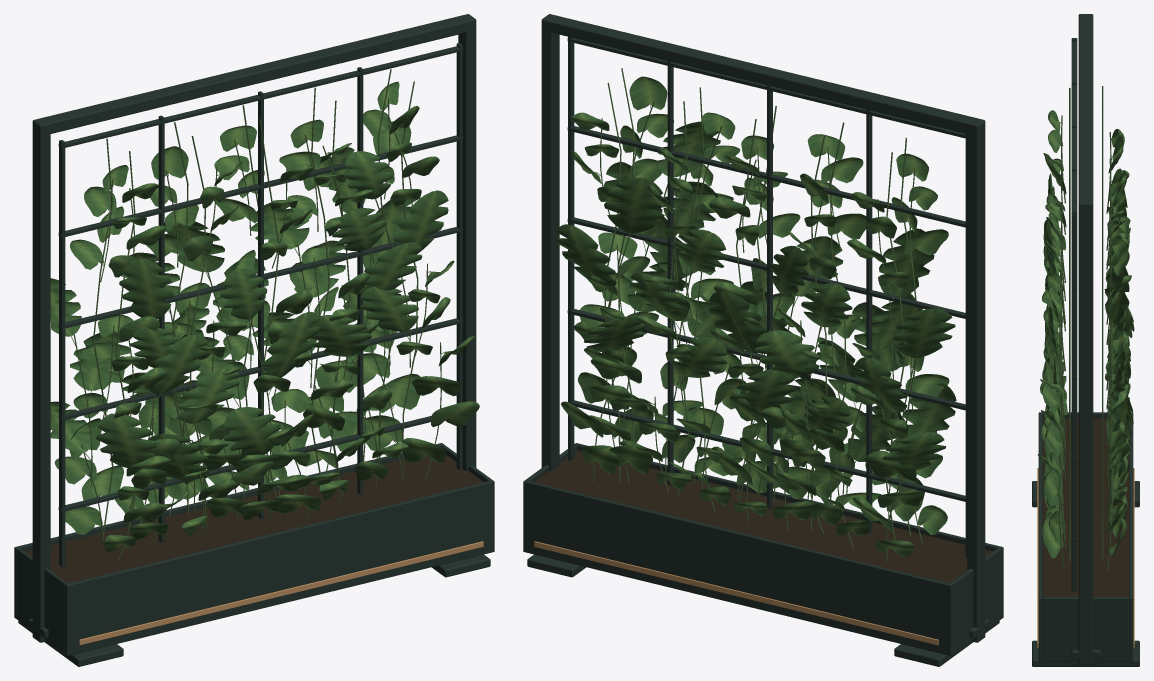
The model's file is botanicalDivider-3.glb.
3 renders of one model, left to right at view 1: azimuth 30°, elevation 25°; view 2: azimuth 150°, elevation 25°; view 3: azimuth 270°, elevation 25°, orthographic. The views are drawn at different scales.
Visible parts, largest first — view 1: Botanical_living_foliage, Botanical_powdercoat, Botanical_recessed_soil, Botanical_connected_stems, Botanical_frame_finish, Botanical_leaf_midribs; view 2: Botanical_living_foliage, Botanical_powdercoat, Botanical_recessed_soil, Botanical_connected_stems, Botanical_frame_finish, Botanical_leaf_midribs; view 3: Botanical_powdercoat, Botanical_living_foliage, Botanical_recessed_soil, Botanical_connected_stems, Botanical_frame_finish, Botanical_leaf_midribs.
Boxes of the visible parts, left/top/right/bottom form: Botanical_living_foliage: left=50, top=81, right=479, bottom=552; Botanical_powdercoat: left=14, top=14, right=494, bottom=666; Botanical_recessed_soil: left=25, top=454, right=483, bottom=583; Botanical_connected_stems: left=71, top=69, right=445, bottom=559; Botanical_frame_finish: left=79, top=541, right=483, bottom=645; Botanical_leaf_midribs: left=50, top=88, right=470, bottom=543; Botanical_living_foliage: left=556, top=76, right=956, bottom=557; Botanical_powdercoat: left=523, top=14, right=1003, bottom=666; Botanical_recessed_soil: left=534, top=450, right=992, bottom=583; Botanical_connected_stems: left=593, top=68, right=922, bottom=562; Botanical_frame_finish: left=534, top=541, right=938, bottom=645; Botanical_leaf_midribs: left=568, top=79, right=941, bottom=547; Botanical_powdercoat: left=1032, top=14, right=1139, bottom=666; Botanical_living_foliage: left=1037, top=110, right=1134, bottom=558; Botanical_recessed_soil: left=1042, top=418, right=1129, bottom=597; Botanical_connected_stems: left=1057, top=86, right=1114, bottom=572; Botanical_frame_finish: left=1037, top=468, right=1134, bottom=648; Botanical_leaf_midribs: left=1041, top=119, right=1129, bottom=545.
Size of the model in its own units: 2 by 2.3 by 0.48.
